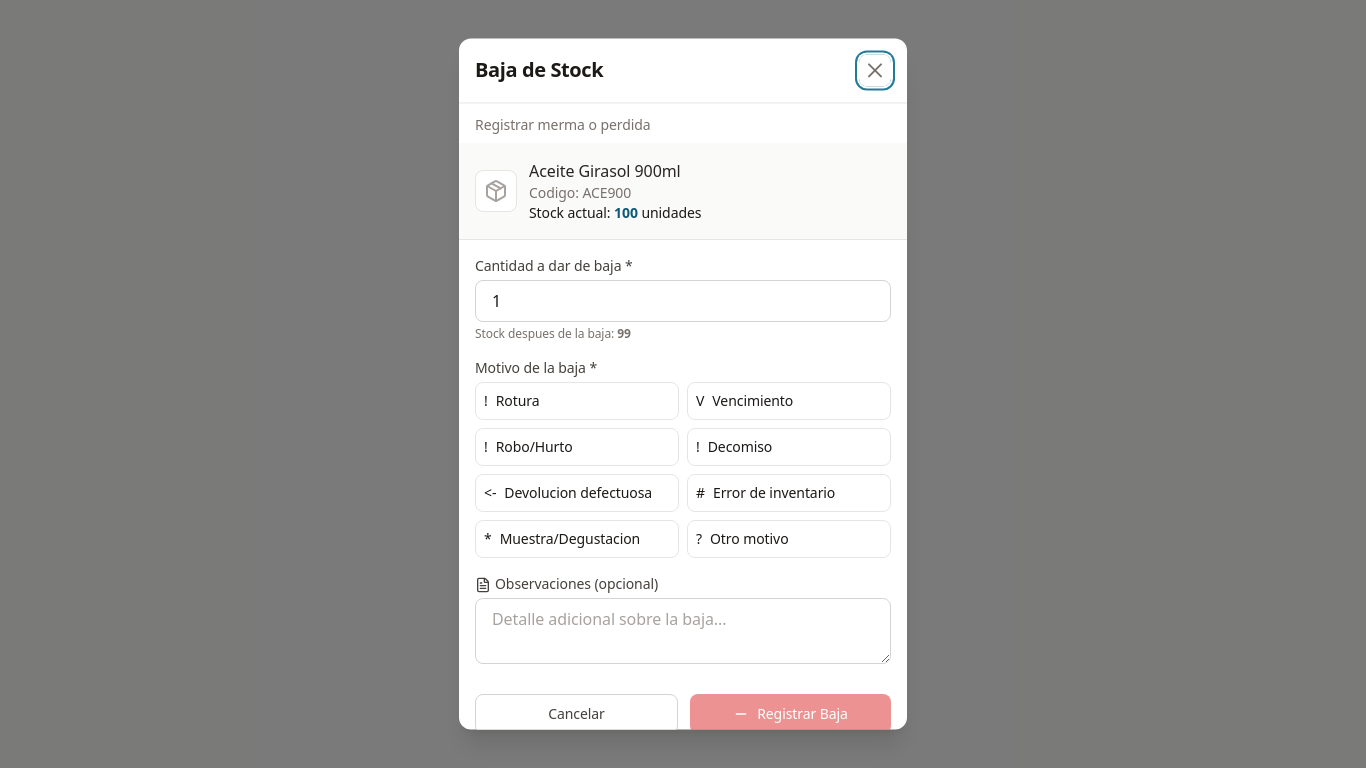
Test: ModalMermaStock — validación › elegir un motivo habilita el guardado
The width and height of the screenshot is (1366, 768).
Step 1. Click the button "! Rotura" → (577, 401), box [475,382,679,420]
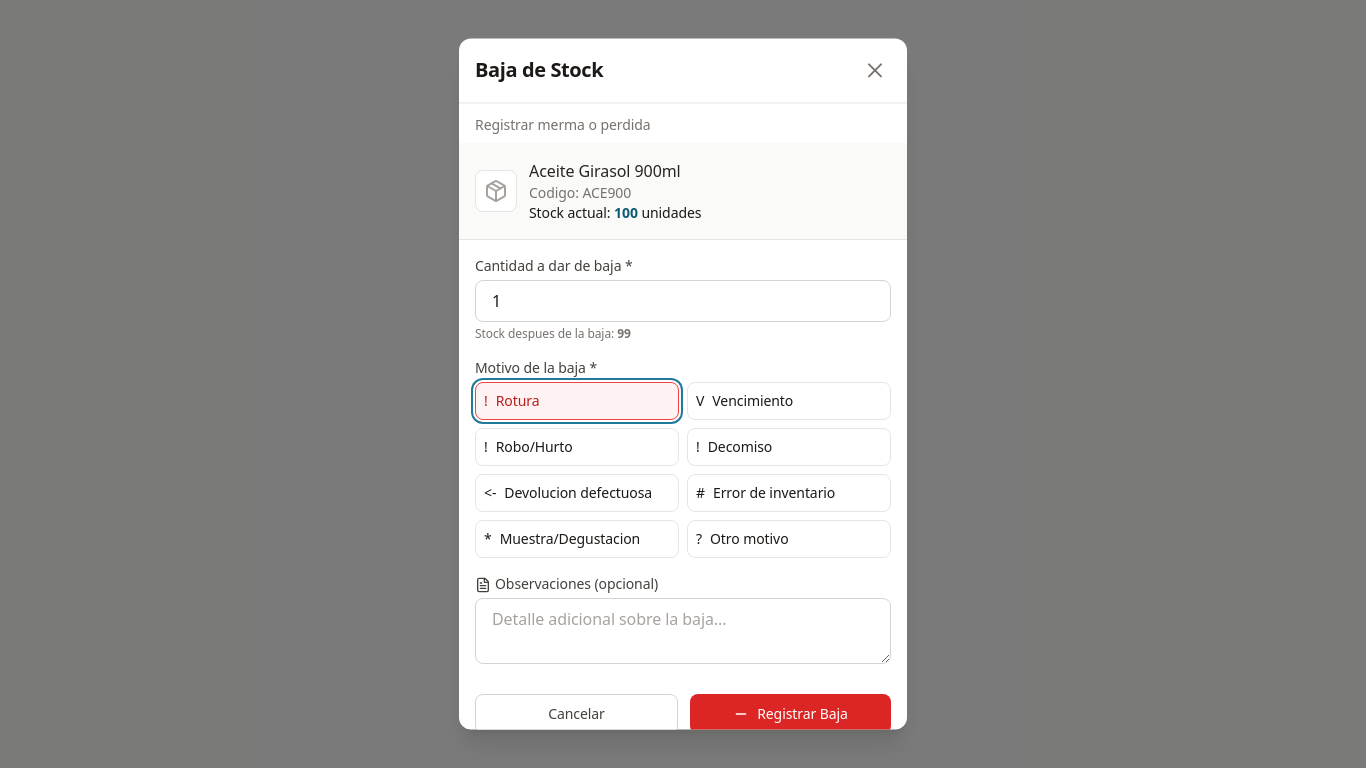
Now the button "Registrar Baja" is enabled, box [690,694,891,730]
